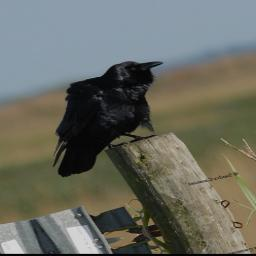Crow: (4, 54, 213, 181)
